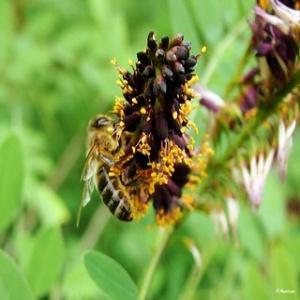bee: (77, 114, 134, 238)
